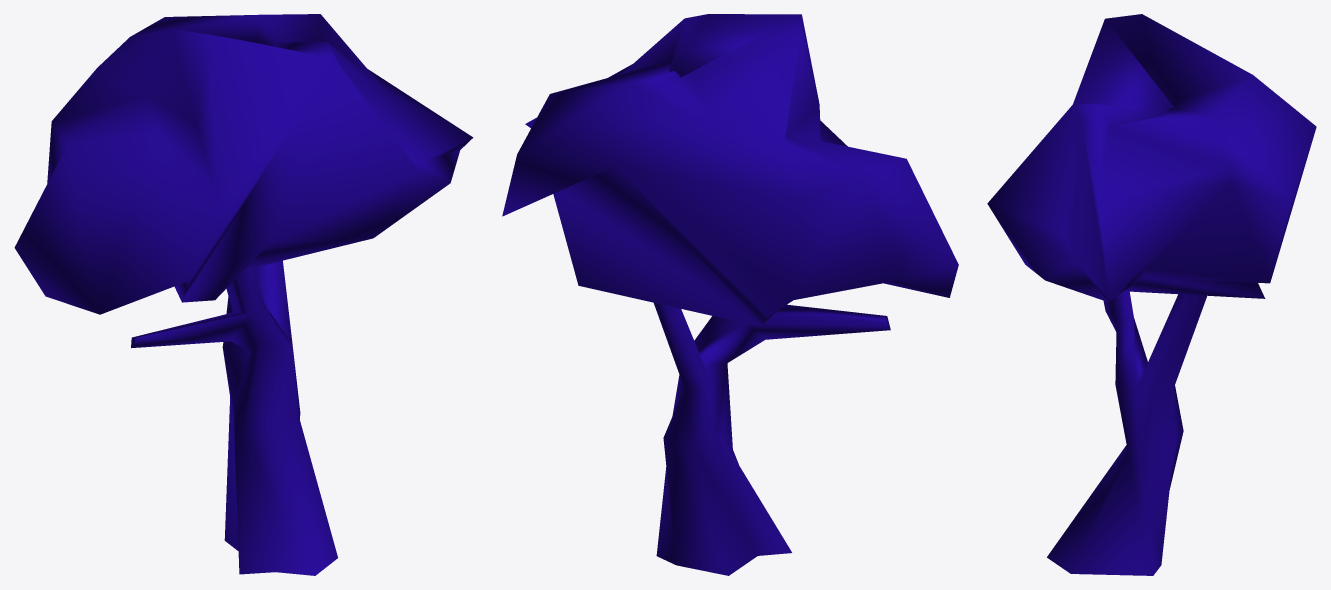
File: CG_Model_TownExt_Tree5_Mar24_ChrisMcknight.FBX
3 views of the same model, side by side, from view 1: azimuth 30°, elevation 25°; view 2: azimuth 150°, elevation 25°; view 3: azimuth 270°, elevation 25° (orthographic). The views are drawn at different scales.
Visible parts, largest first — view 1: Cylinder036; view 2: Cylinder036; view 3: Cylinder036.
Part boxes in pixels (box(x1,y1,x2,y2)): Cylinder036: box(14, 14, 473, 575); Cylinder036: box(502, 14, 958, 575); Cylinder036: box(987, 14, 1316, 575).
Size of the model in its own units: 51.93 by 60.49 by 35.79.
